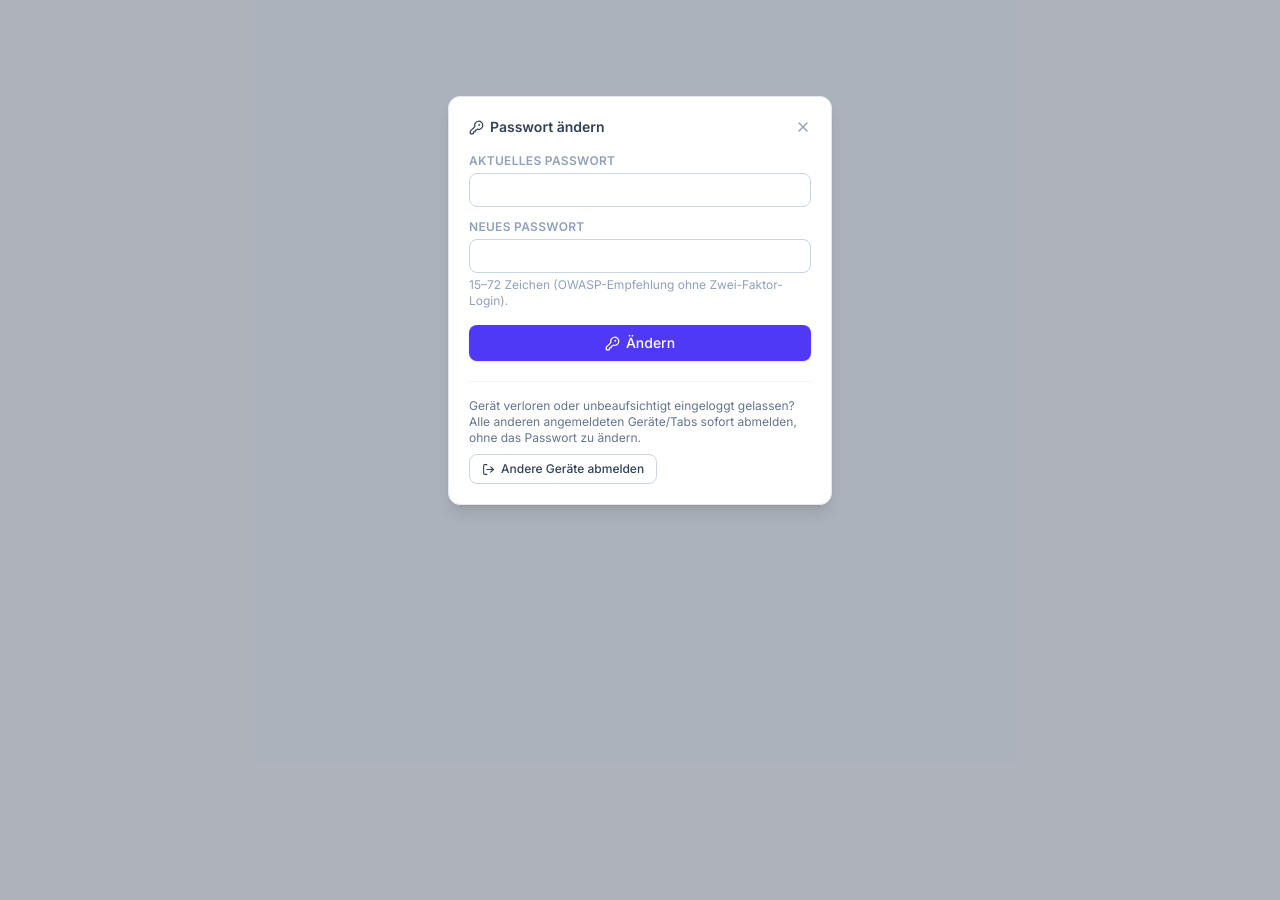
Test: PasswortAendernDialog › zeigt eine Fehlermeldung, wenn das aktuelle Passwort falsch ist
In the password field labelled "Aktuelles Passwort": [640, 190] box [469,173,811,207], type "falsches-passwort"
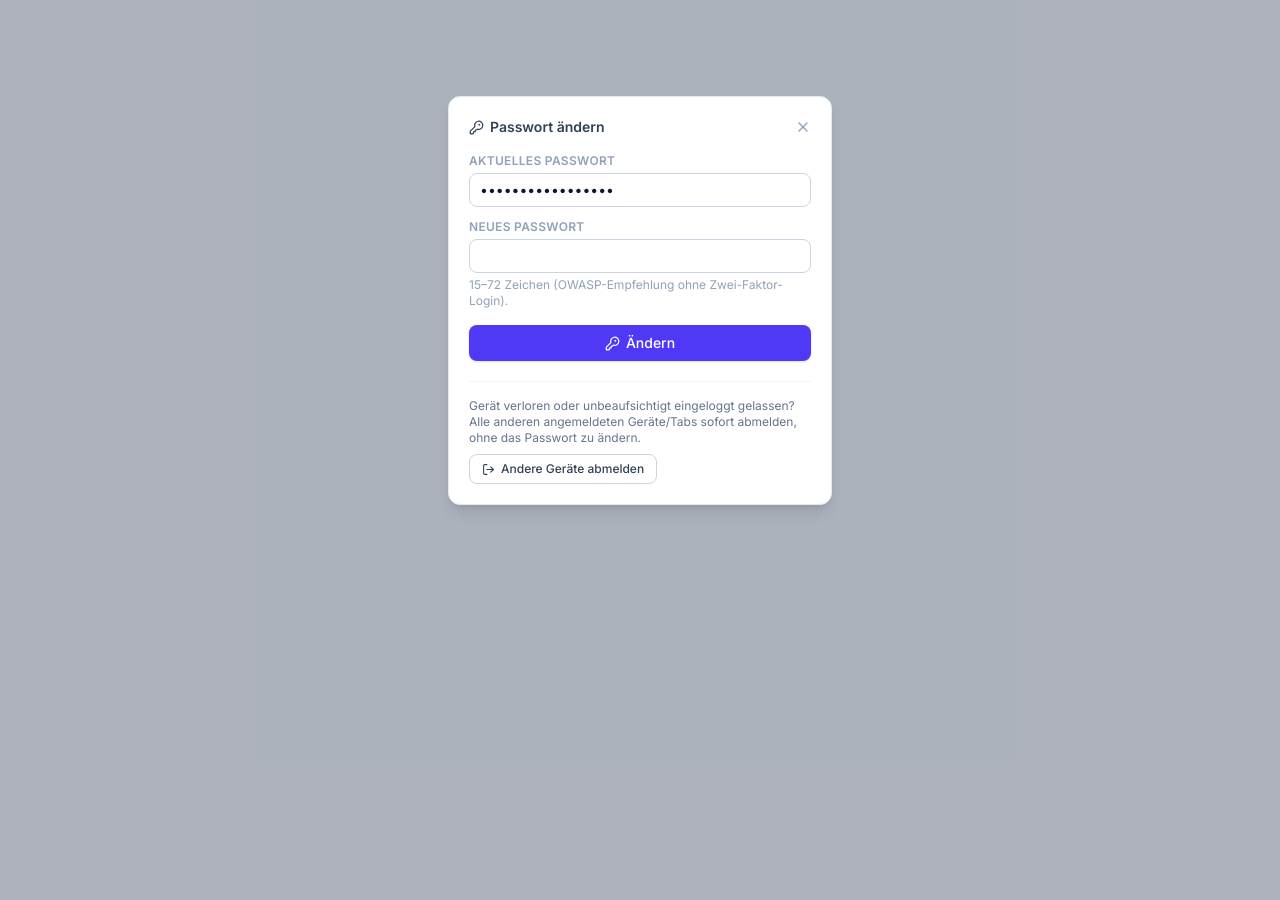
In the password field labelled "Neues Passwort": [640, 256] box [469,239,811,273], type "ein-neues-langes-passwort"
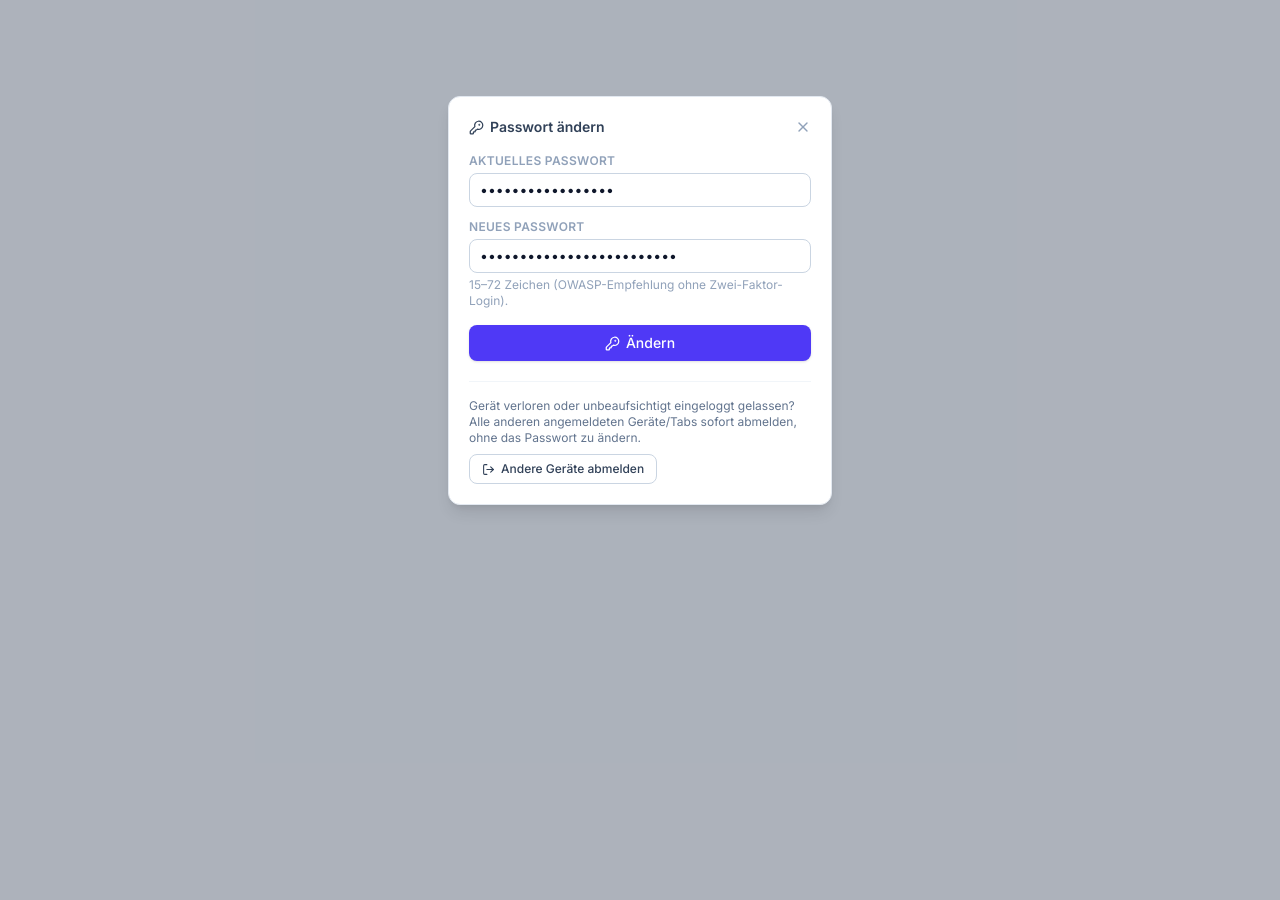
Click the button "Ändern": [640, 343] box [469,325,811,361]
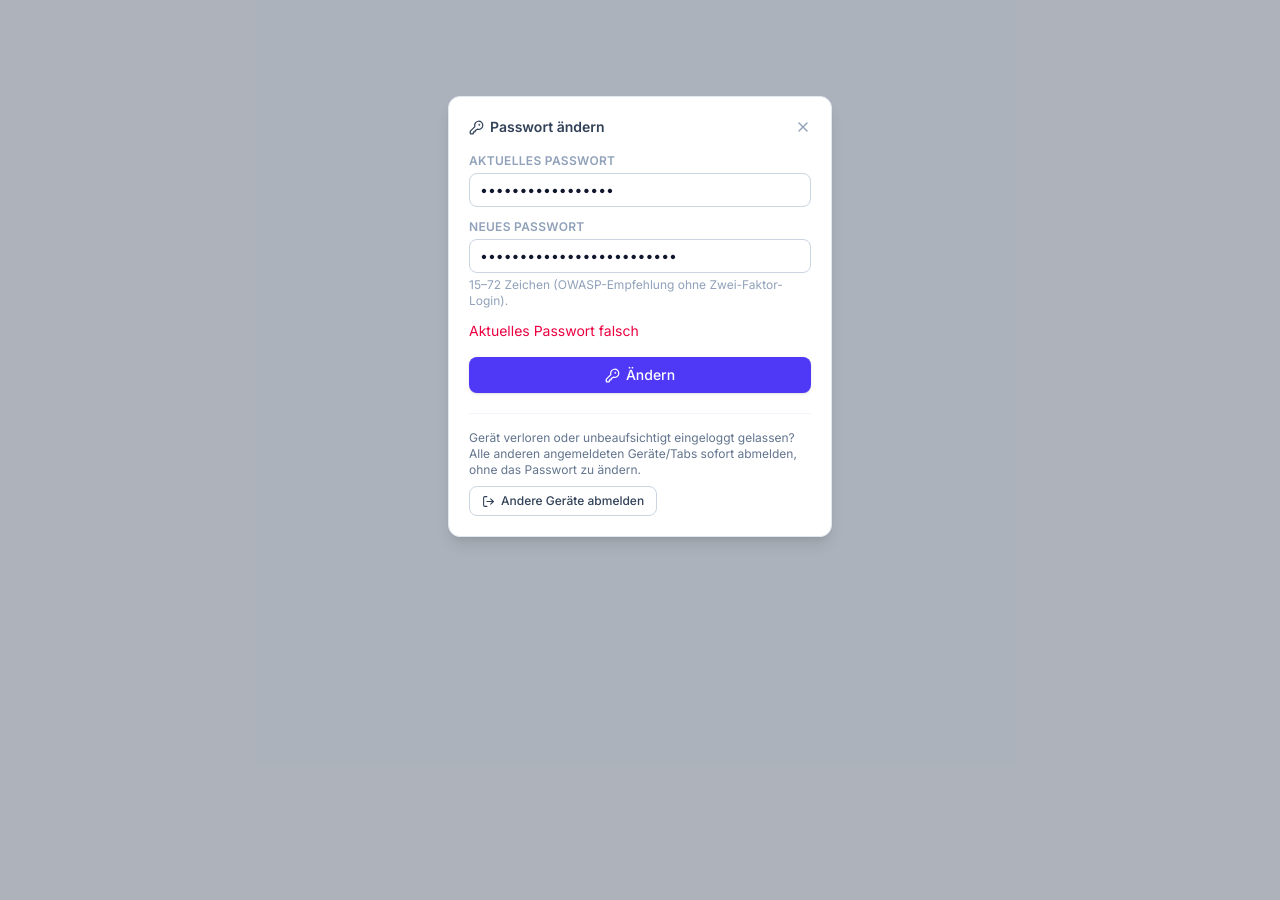
Check: the text "Aktuelles Passwort falsch" is shown, box [469,322,639,339]
